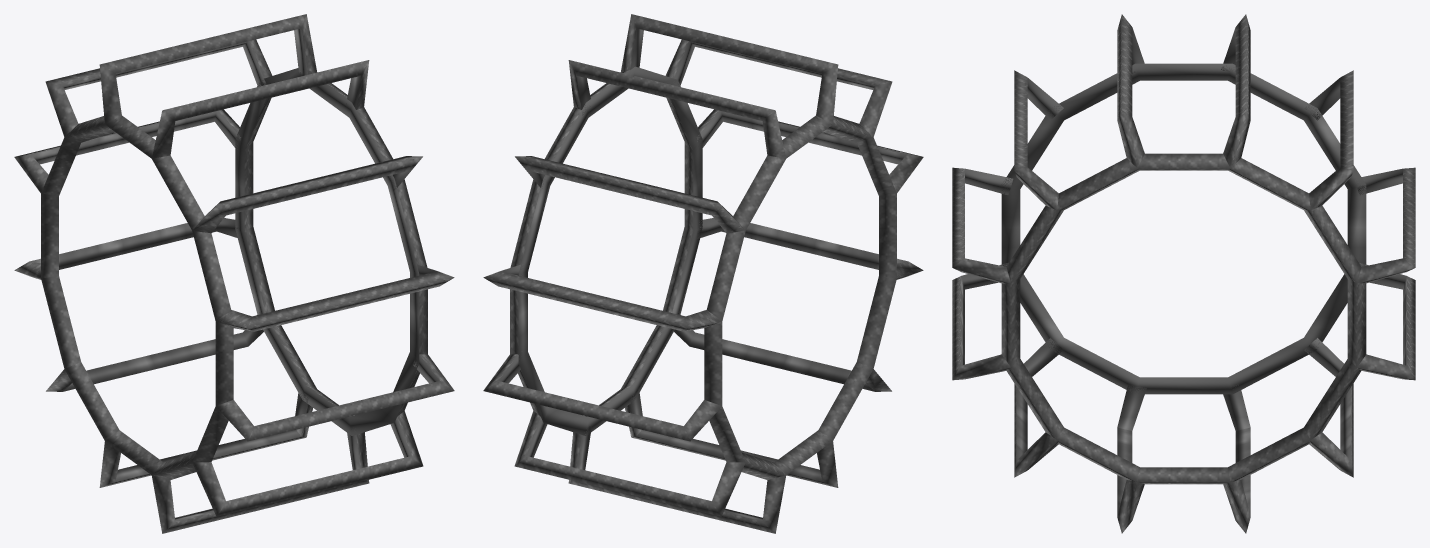
Rendered from Tirechain.fbx.
3 views of the same model, side by side, from view 1: azimuth 30°, elevation 25°; view 2: azimuth 150°, elevation 25°; view 3: azimuth 270°, elevation 25° (orthographic).
Visible parts, largest first — view 1: chaintires; view 2: chaintires; view 3: chaintires.
Part boxes in pixels (bbox=[...]): chaintires: bbox=[14, 14, 454, 533]; chaintires: bbox=[483, 14, 923, 533]; chaintires: bbox=[952, 14, 1415, 533].
Bounding box in the file's own units: 0.1583 × 0.3017 × 0.3017.
